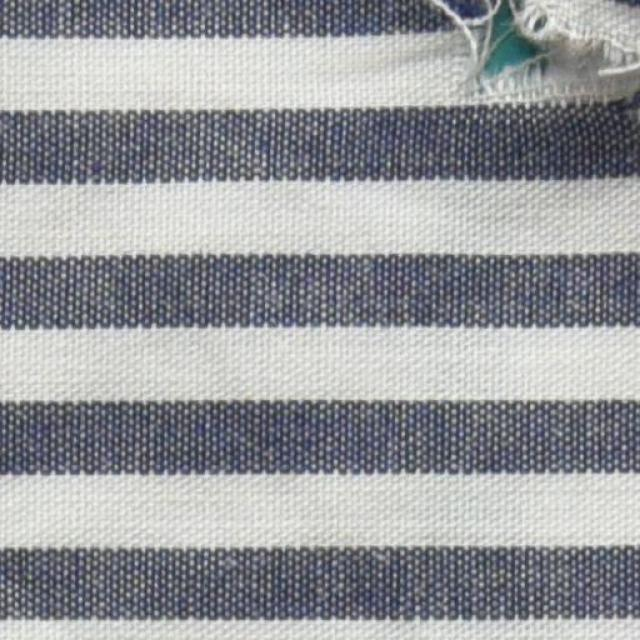cut: (439, 0, 640, 111)
